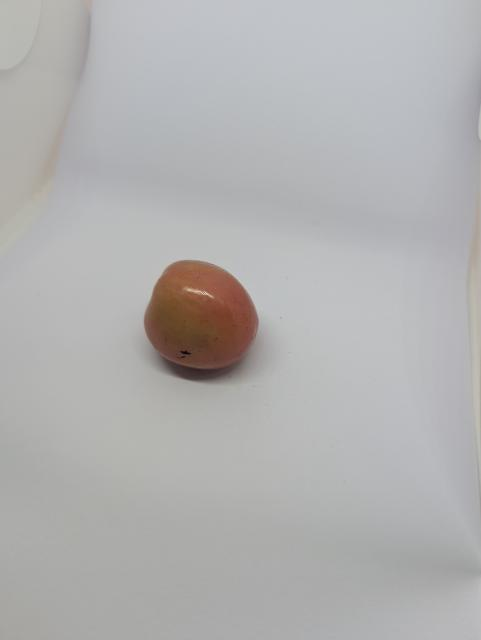turning: (142, 250, 264, 375)
